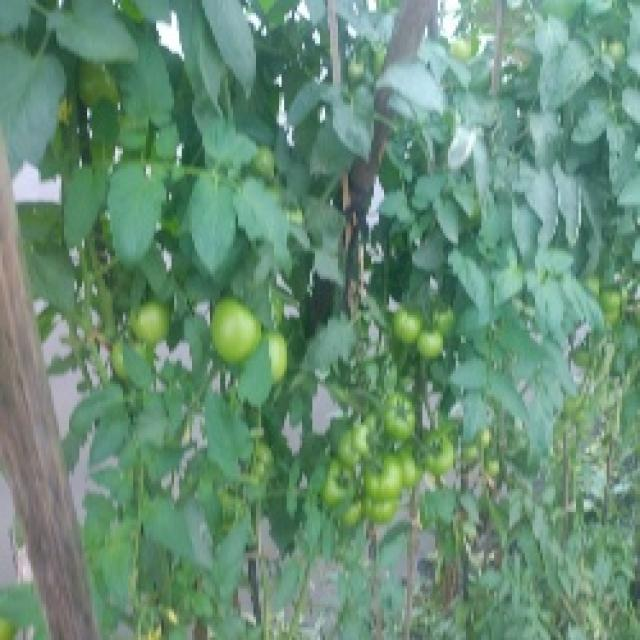tomato: (204, 295, 262, 360), (129, 297, 173, 349), (80, 61, 120, 103), (262, 333, 290, 386), (390, 393, 424, 436), (368, 456, 399, 503), (325, 464, 360, 503), (107, 331, 129, 386), (392, 306, 423, 343), (423, 440, 458, 472), (419, 326, 448, 363), (368, 498, 401, 526), (349, 425, 376, 459), (396, 447, 416, 488), (600, 288, 630, 314), (341, 445, 364, 470), (453, 38, 476, 62), (433, 311, 455, 335), (489, 456, 507, 481), (346, 61, 365, 80), (462, 447, 484, 463)
